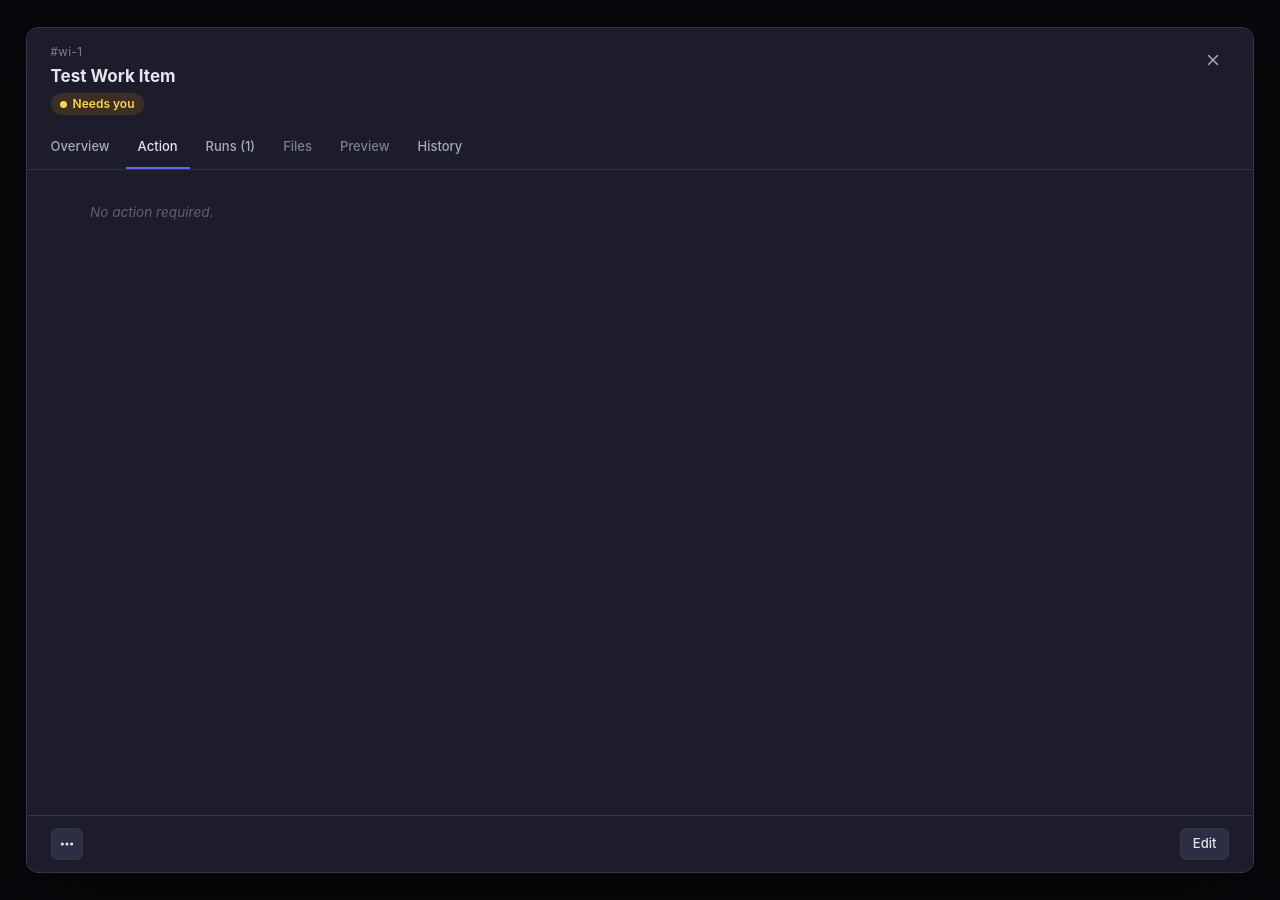
Test: why an item waits on a person when no run says so › is not shown until the latest run has been read
The width and height of the screenshot is (1280, 900).
Click the tab "Action" at (158,148), box [126,127,190,169]
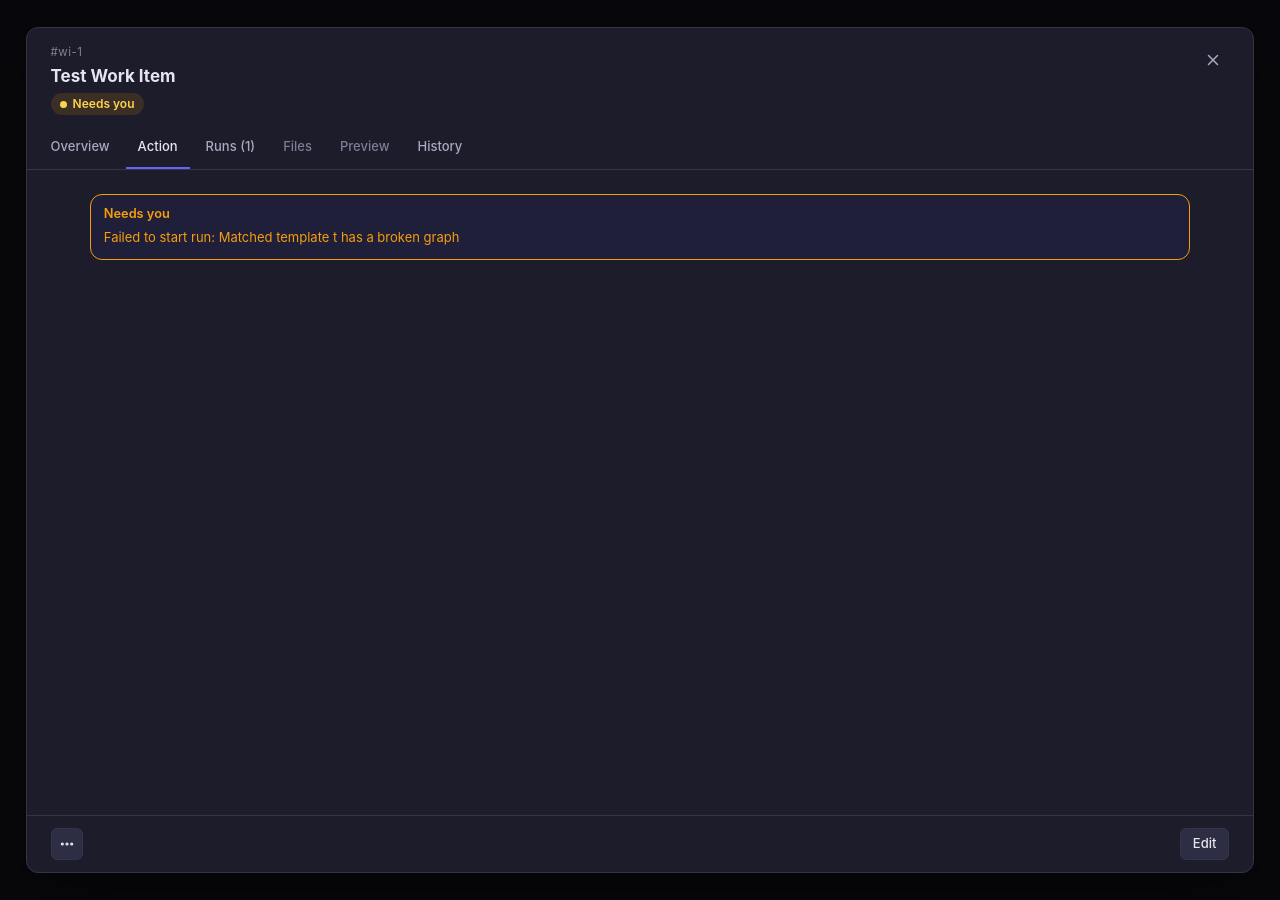
Now the text "Failed to start run: Matched template t has a broken graph" is shown, box [104,229,459,245]
